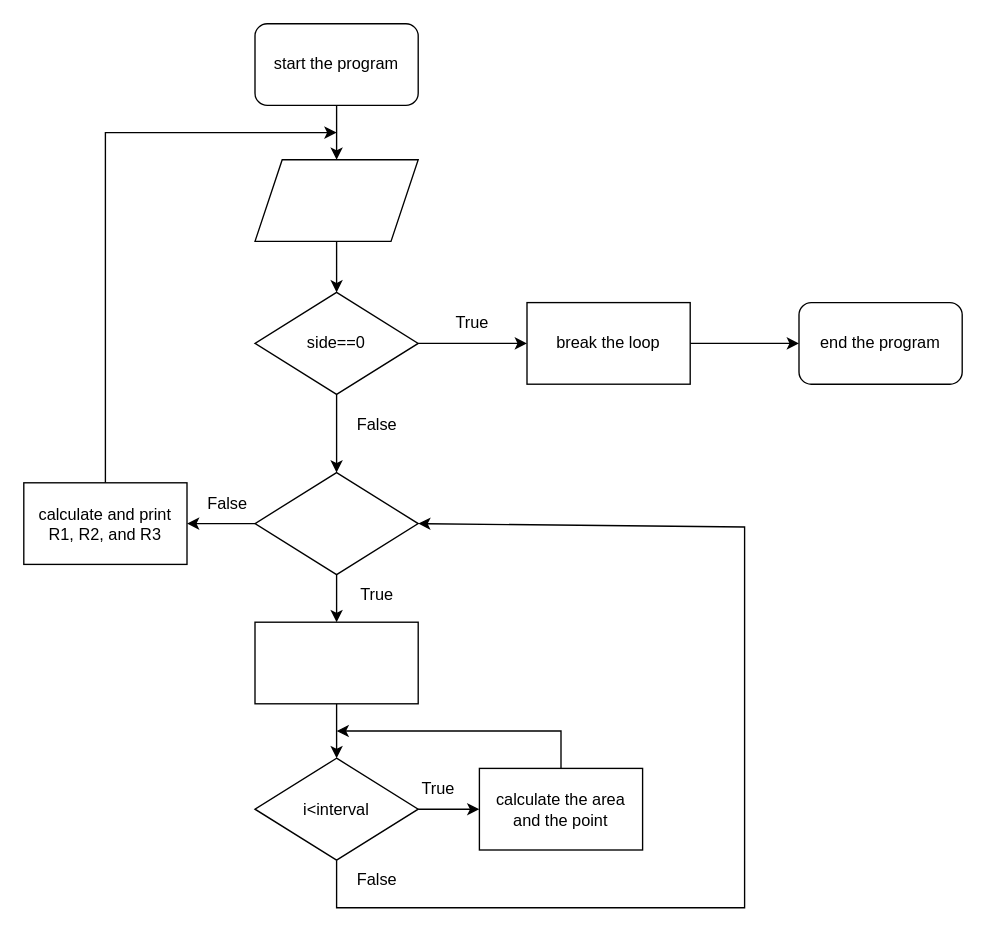
The diagram is 986 pixels wide and 942 high, and some of its shapes have lost their labels. The shapes that lost their labels are listed below. From the top down, each one's centre as x and y in pixels, then its label:
At (x=336, y=199): "input the side of square".
At (x=336, y=523): "(area-last)>eps".
At (x=336, y=662): "calculate the variable".
